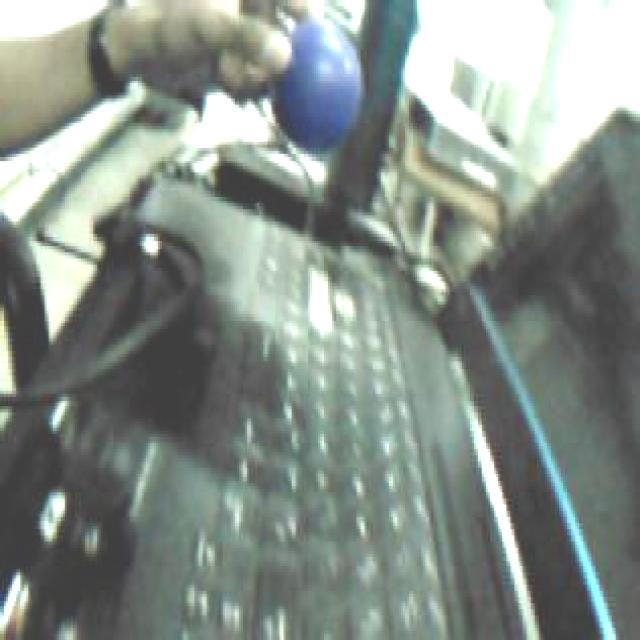BallPurple: (268, 19, 362, 155)
